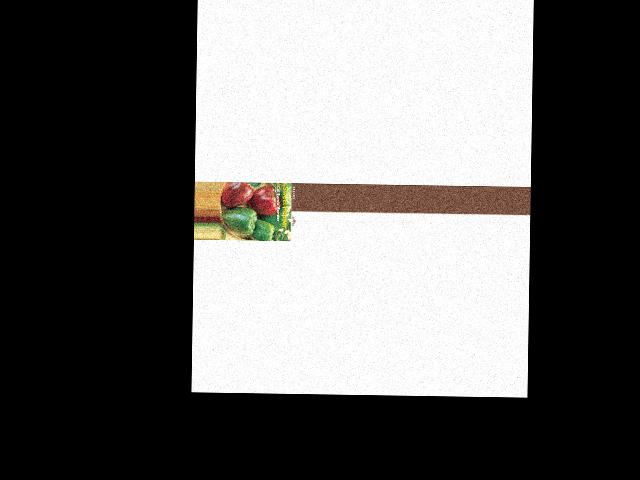bell_pepper: (245, 221, 276, 242)
